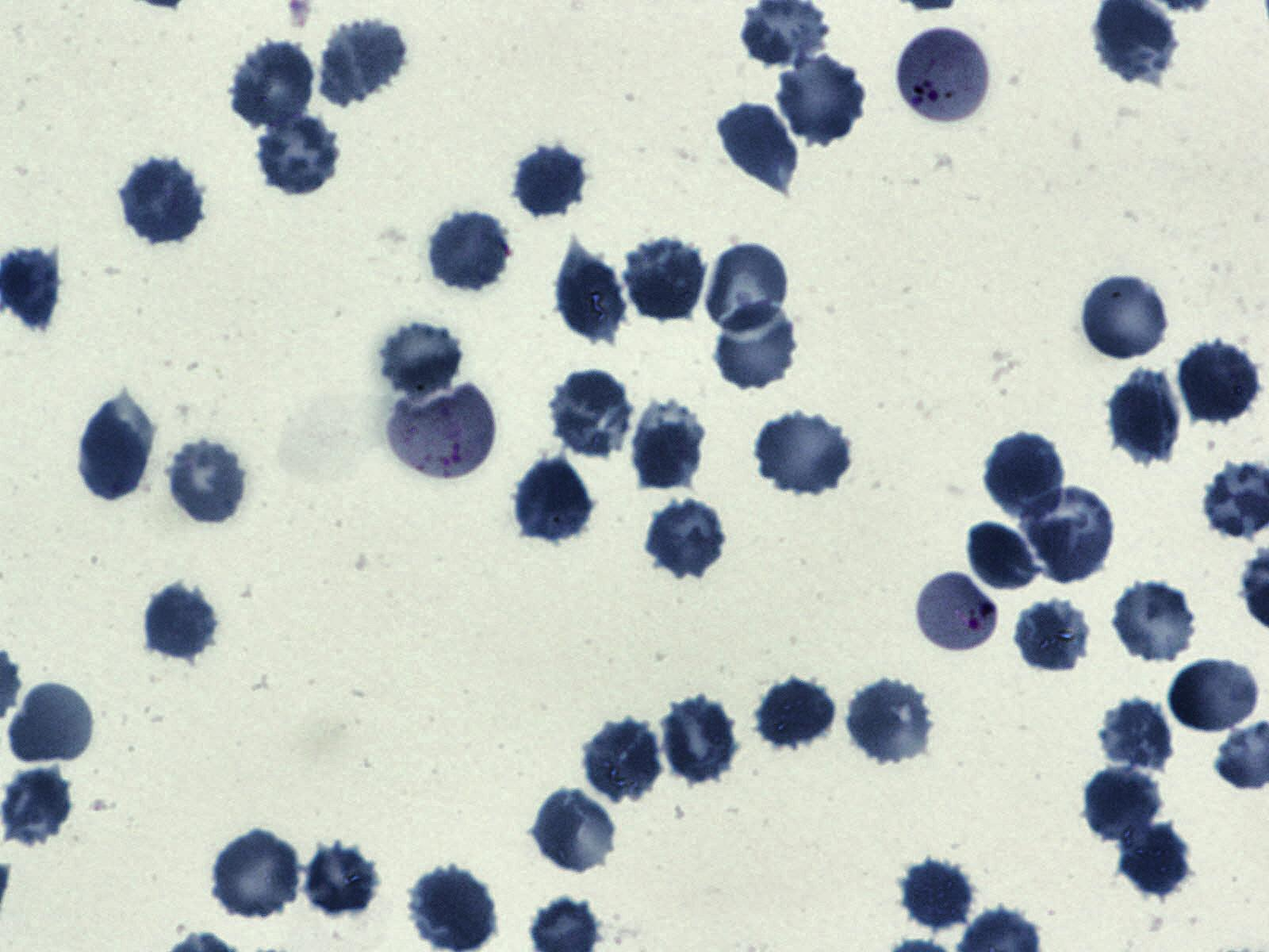Infected: (390, 384, 493, 480), (896, 26, 993, 127), (914, 569, 1003, 654)
Uninfected: (1019, 481, 1115, 585), (210, 828, 304, 921), (1078, 271, 1171, 362), (1108, 577, 1202, 667), (703, 242, 793, 335), (776, 54, 865, 146), (318, 17, 407, 108), (757, 409, 851, 494), (79, 397, 155, 501), (117, 156, 206, 244), (229, 41, 316, 131), (550, 245, 626, 346), (845, 677, 934, 763), (163, 435, 248, 525), (531, 786, 617, 874), (714, 303, 799, 392), (1109, 368, 1186, 463), (549, 370, 634, 456), (410, 866, 495, 952), (985, 433, 1067, 520), (716, 104, 798, 190), (9, 682, 94, 764), (257, 112, 343, 193), (583, 717, 662, 805), (1170, 658, 1261, 734), (429, 210, 512, 293), (513, 458, 593, 544), (376, 317, 464, 395), (1180, 340, 1259, 424), (627, 236, 705, 321), (662, 698, 738, 785), (629, 401, 704, 489), (647, 498, 726, 578), (1083, 766, 1163, 843), (0, 766, 74, 846), (304, 843, 380, 920), (144, 582, 218, 661), (1120, 818, 1192, 899), (1016, 598, 1091, 675), (902, 856, 975, 934), (1101, 699, 1176, 773), (758, 678, 835, 750), (512, 146, 589, 217), (965, 524, 1041, 594)
